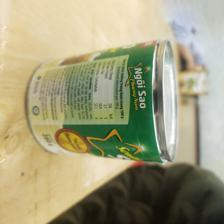NSPN_Lon: (26, 40, 179, 165)
